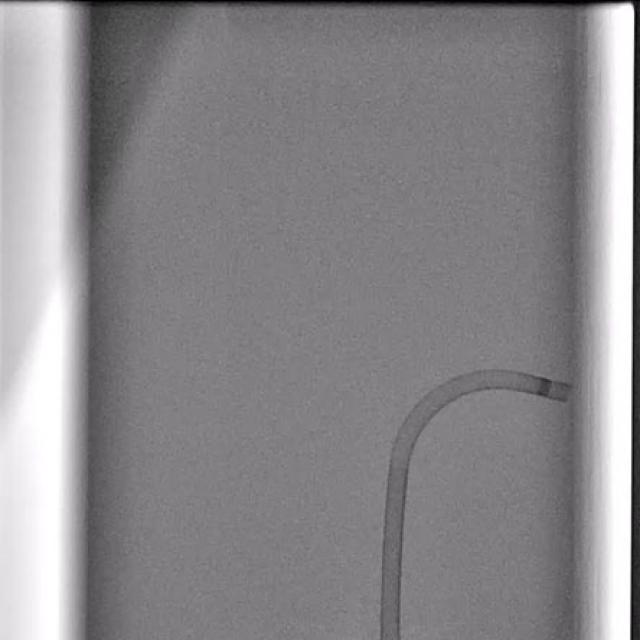bend: (387, 453, 412, 470)
entry: (381, 634, 400, 640)
marker: (537, 377, 553, 400)
tip: (562, 384, 574, 405)
